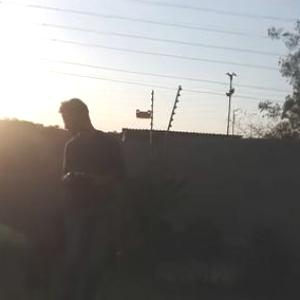follow: (54, 94, 133, 299)
